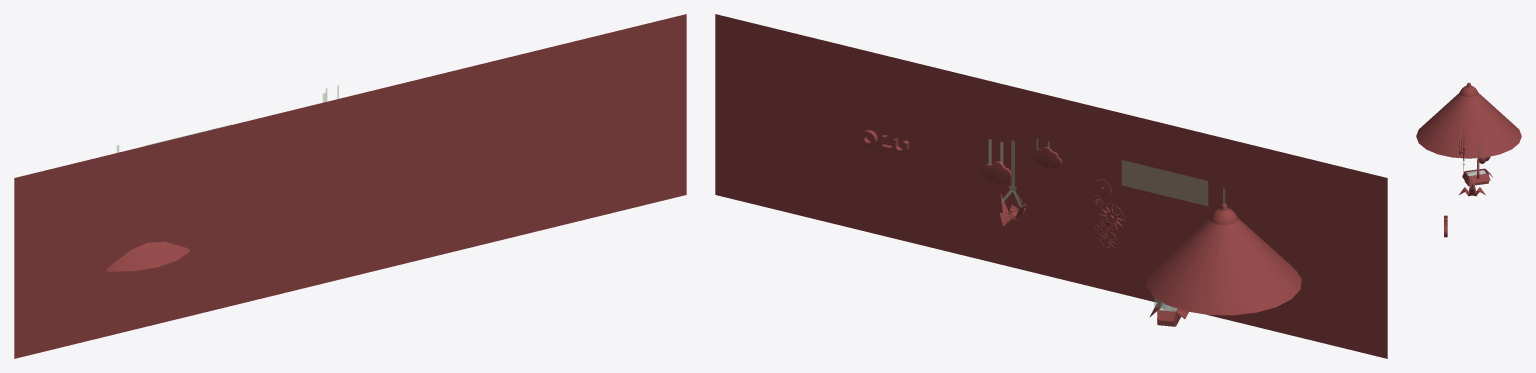
Rendered from Title.fbx.
3 renders of one model, left to right at view 1: azimuth 30°, elevation 25°; view 2: azimuth 150°, elevation 25°; view 3: azimuth 270°, elevation 25°, orthographic. The views are drawn at different scales.
Visible parts, largest first — view 1: Background, LightBeam; view 2: Background, LightBeam, FlagModel, Cloud1; view 3: LightBeam, Case1, PaperCraneModel, LightShell.
Part boxes in pixels (x1,y1,x2,y2): Background: (14, 14, 686, 358); LightBeam: (105, 241, 190, 271); Background: (715, 14, 1387, 358); LightBeam: (1146, 218, 1301, 315); FlagModel: (1121, 160, 1208, 206); Cloud1: (981, 161, 1011, 185); LightBeam: (1416, 93, 1521, 158); Case1: (1462, 168, 1492, 186); PaperCraneModel: (1459, 179, 1485, 196); LightShell: (1459, 82, 1478, 97).
Size of the model in its own units: 43.68 by 11.23 by 8.78.
